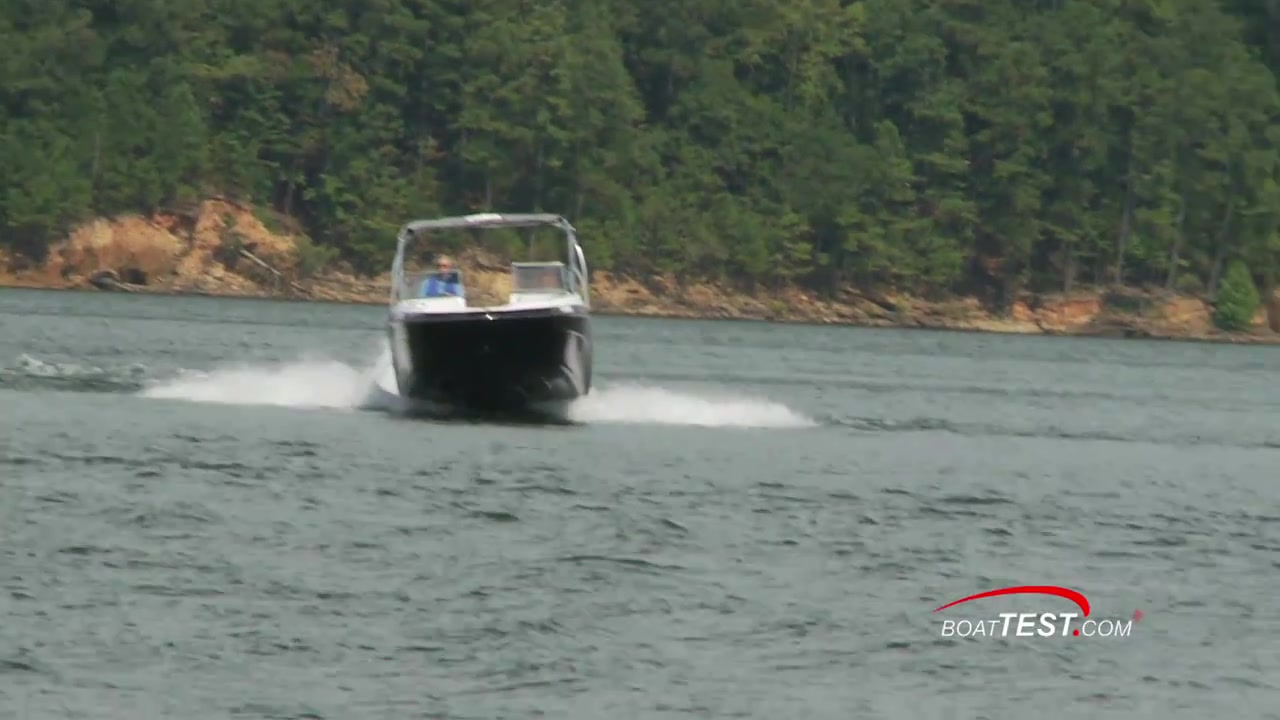boat: (384, 209, 601, 418)
